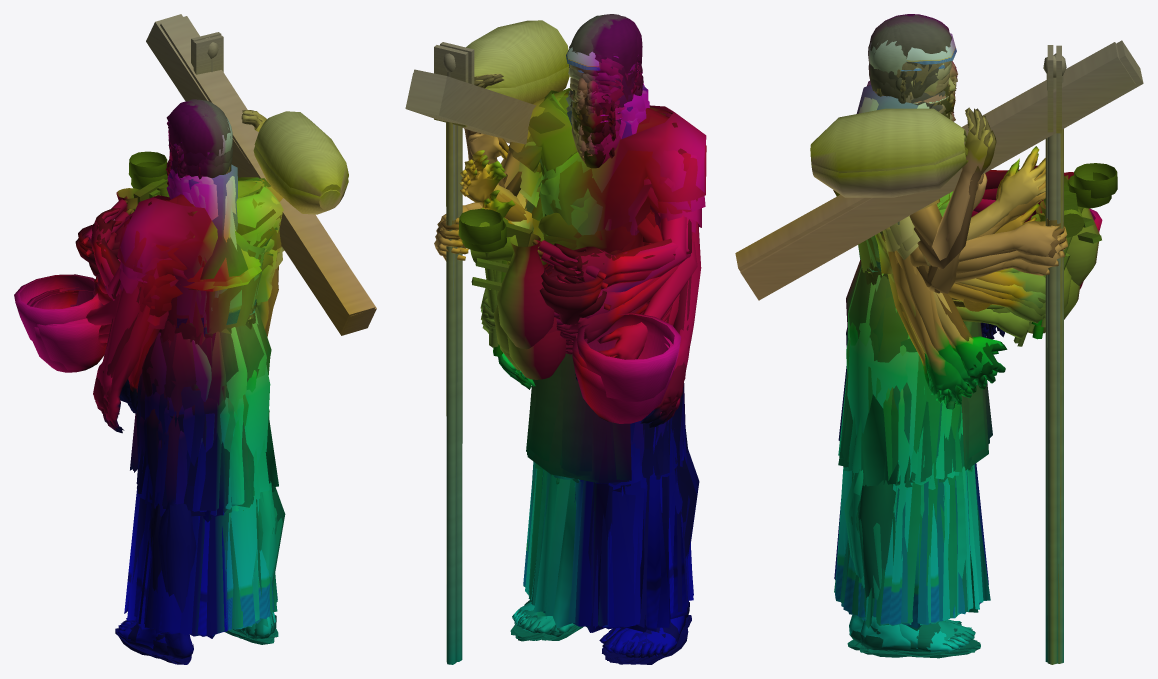
Rendered from mesopotamia_citizens_kit.glb.
The picture shows the model from 3 angles, left to right: view 1: azimuth 30°, elevation 25°; view 2: azimuth 150°, elevation 25°; view 3: azimuth 270°, elevation 25°; orthographic projection. The views are drawn at different scales.
Visible parts, largest first — view 1: citizen_priest_05_LOD0, citizen_porter_04_LOD0, citizen_carpenter_03_LOD0, citizen_carpenter_05_LOD0, citizen_woman_artisan_02_LOD0, citizen_porter_01_LOD0, citizen_smith_pitch_03_LOD0, citizen_porter_05_LOD0, citizen_merchant_02_LOD0, citizen_priest_04_LOD0, citizen_merchant_05_LOD0, citizen_merchant_03_LOD0 (+24 smaller); view 2: citizen_merchant_01_LOD0, citizen_porter_04_LOD0, citizen_priest_05_LOD0, citizen_porter_05_LOD0, citizen_farmer_rower_01_LOD0, citizen_porter_03_LOD0, citizen_porter_01_LOD0, citizen_woman_jar_03_LOD0, citizen_woman_artisan_05_LOD0, citizen_priest_04_LOD0, citizen_priest_01_LOD0, citizen_priest_03_LOD0 (+29 smaller); view 3: citizen_priest_05_LOD0, citizen_porter_04_LOD0, citizen_carpenter_03_LOD0, citizen_porter_01_LOD0, citizen_porter_02_LOD0, citizen_carpenter_05_LOD0, citizen_priest_04_LOD0, citizen_merchant_05_LOD0, citizen_merchant_02_LOD0, citizen_farmer_rower_01_LOD0, citizen_priest_03_LOD0, citizen_smith_pitch_02_LOD0 (+29 smaller).
Boxes of the visible parts, x1,y1,x2,y2 form: citizen_priest_05_LOD0: [120, 42, 284, 639]; citizen_porter_04_LOD0: [96, 99, 348, 510]; citizen_carpenter_03_LOD0: [103, 16, 375, 513]; citizen_carpenter_05_LOD0: [122, 101, 278, 664]; citizen_woman_artisan_02_LOD0: [30, 171, 274, 633]; citizen_porter_01_LOD0: [104, 14, 376, 662]; citizen_smith_pitch_03_LOD0: [141, 101, 281, 664]; citizen_porter_05_LOD0: [14, 157, 276, 507]; citizen_merchant_02_LOD0: [118, 99, 278, 652]; citizen_priest_04_LOD0: [78, 172, 278, 660]; citizen_merchant_05_LOD0: [124, 37, 272, 656]; citizen_merchant_03_LOD0: [84, 144, 280, 627]; citizen_merchant_01_LOD0: [502, 59, 706, 662]; citizen_porter_04_LOD0: [466, 14, 701, 658]; citizen_priest_05_LOD0: [436, 48, 706, 662]; citizen_porter_05_LOD0: [514, 80, 697, 630]; citizen_farmer_rower_01_LOD0: [434, 45, 696, 664]; citizen_porter_03_LOD0: [497, 57, 686, 663]; citizen_porter_01_LOD0: [405, 73, 680, 620]; citizen_woman_jar_03_LOD0: [493, 89, 672, 654]; citizen_woman_artisan_05_LOD0: [530, 107, 674, 653]; citizen_priest_04_LOD0: [459, 47, 693, 664]; citizen_priest_01_LOD0: [463, 84, 705, 652]; citizen_priest_03_LOD0: [498, 116, 701, 641]; citizen_priest_05_LOD0: [835, 40, 1060, 664]; citizen_porter_04_LOD0: [810, 17, 992, 472]; citizen_carpenter_03_LOD0: [735, 42, 1135, 293]; citizen_porter_01_LOD0: [740, 40, 1143, 300]; citizen_porter_02_LOD0: [811, 64, 996, 651]; citizen_carpenter_05_LOD0: [839, 14, 991, 651]; citizen_priest_04_LOD0: [847, 33, 1045, 657]; citizen_merchant_05_LOD0: [834, 53, 1066, 663]; citizen_merchant_02_LOD0: [834, 16, 974, 628]; citizen_farmer_rower_01_LOD0: [849, 45, 1067, 663]; citizen_priest_03_LOD0: [846, 165, 1068, 648]; citizen_smith_pitch_02_LOD0: [844, 63, 1117, 648].
Size of what is drawn, in the model's own units: 0.8614 by 1.82 by 1.1.
1 material, 1 textured.
